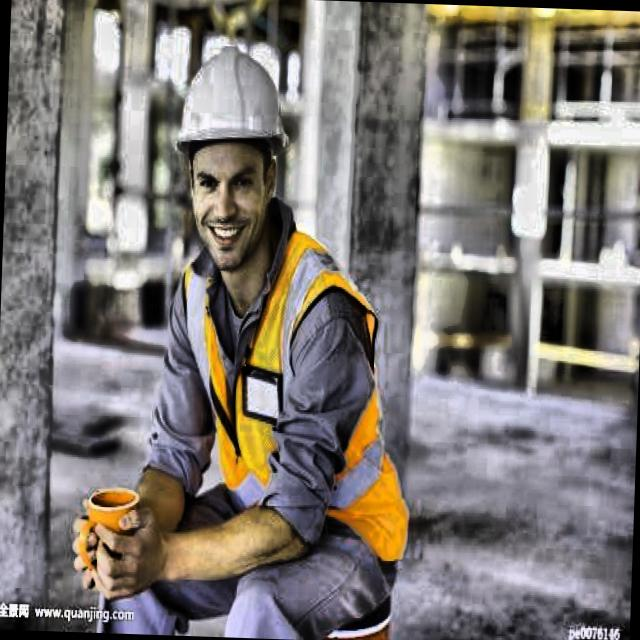helmet: (163, 38, 295, 268)
